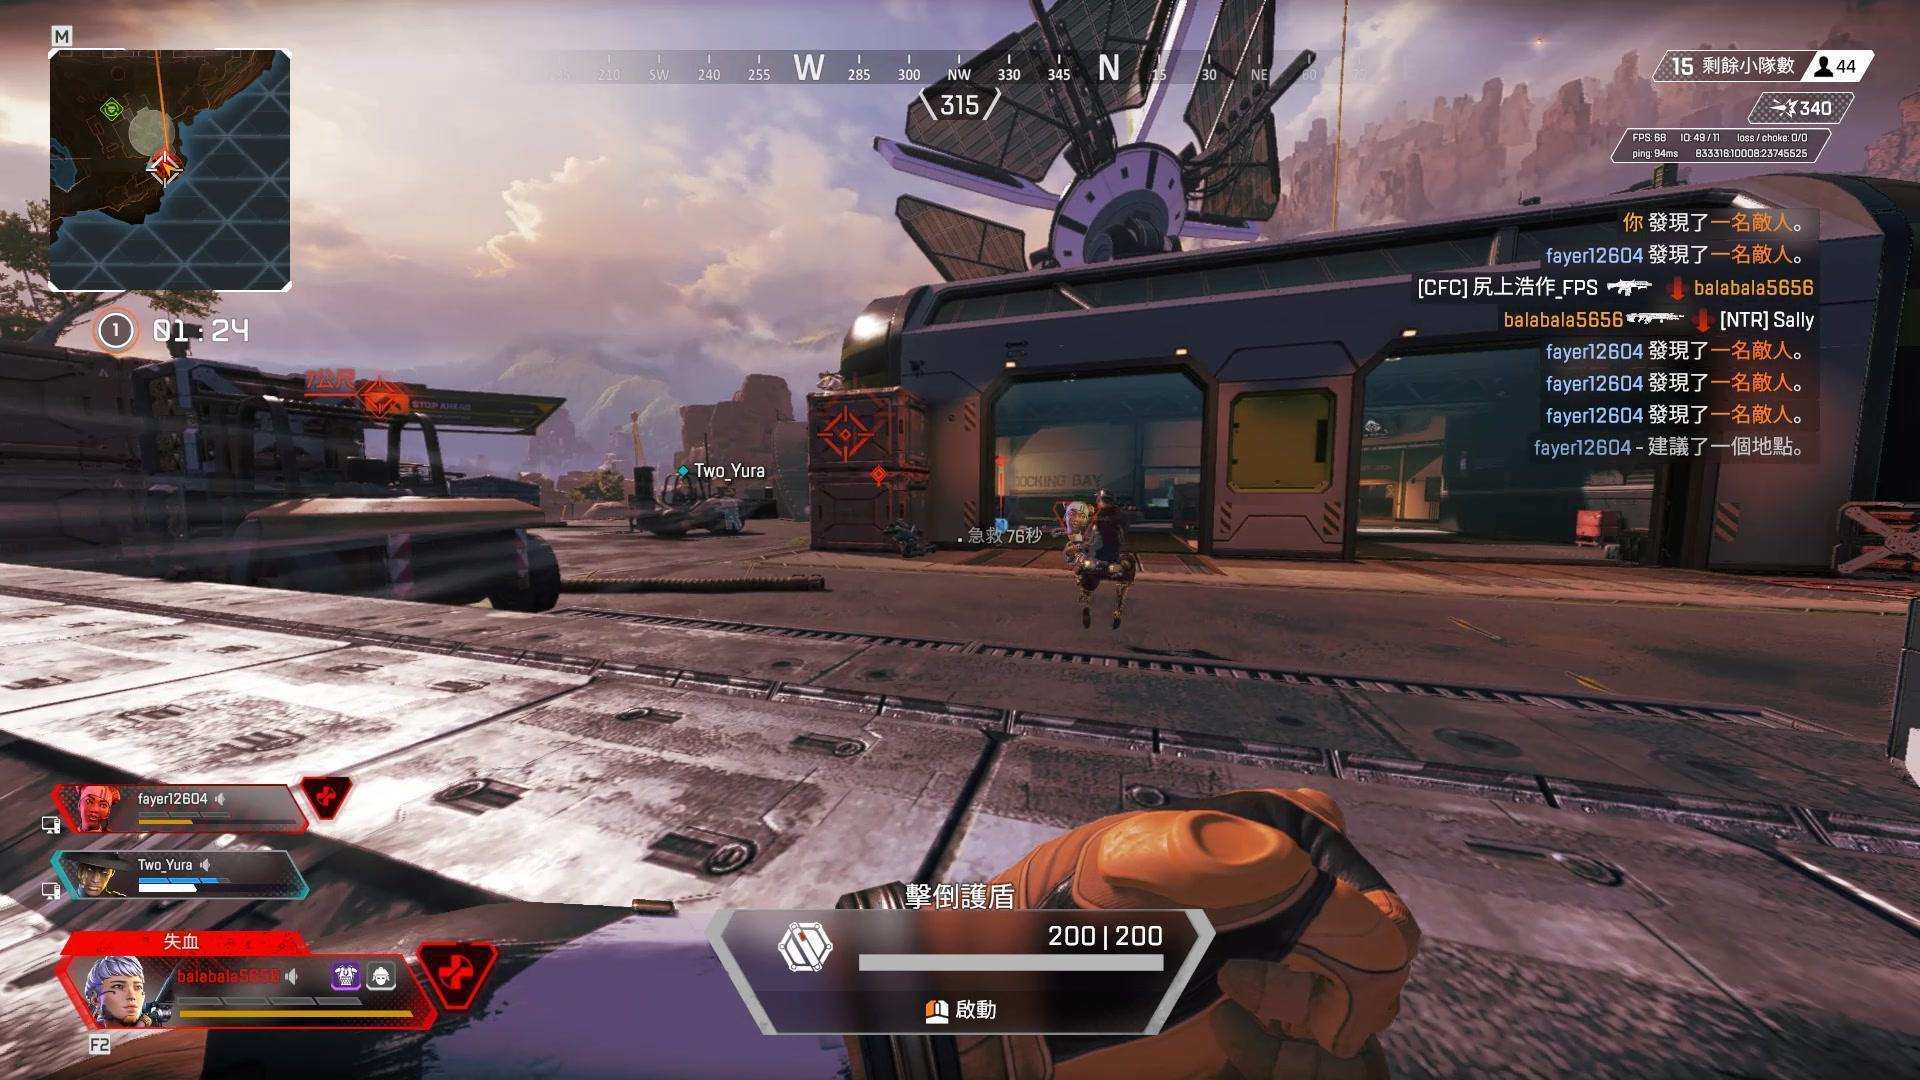avatar: (1070, 483, 1139, 635)
